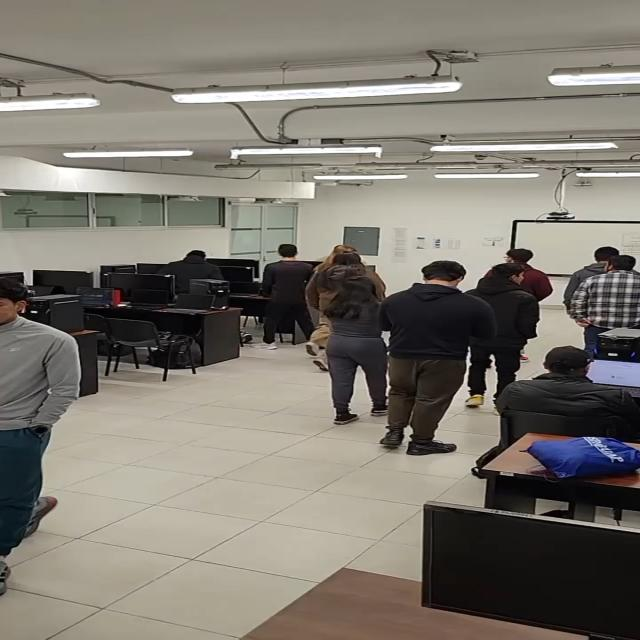Persona: (1, 274, 84, 599), (384, 257, 472, 457), (327, 268, 388, 427), (474, 262, 534, 409), (570, 244, 640, 348), (580, 254, 640, 346)
